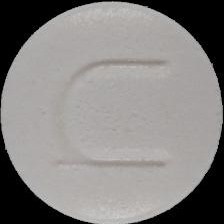43386-140: (0, 0, 224, 224)
